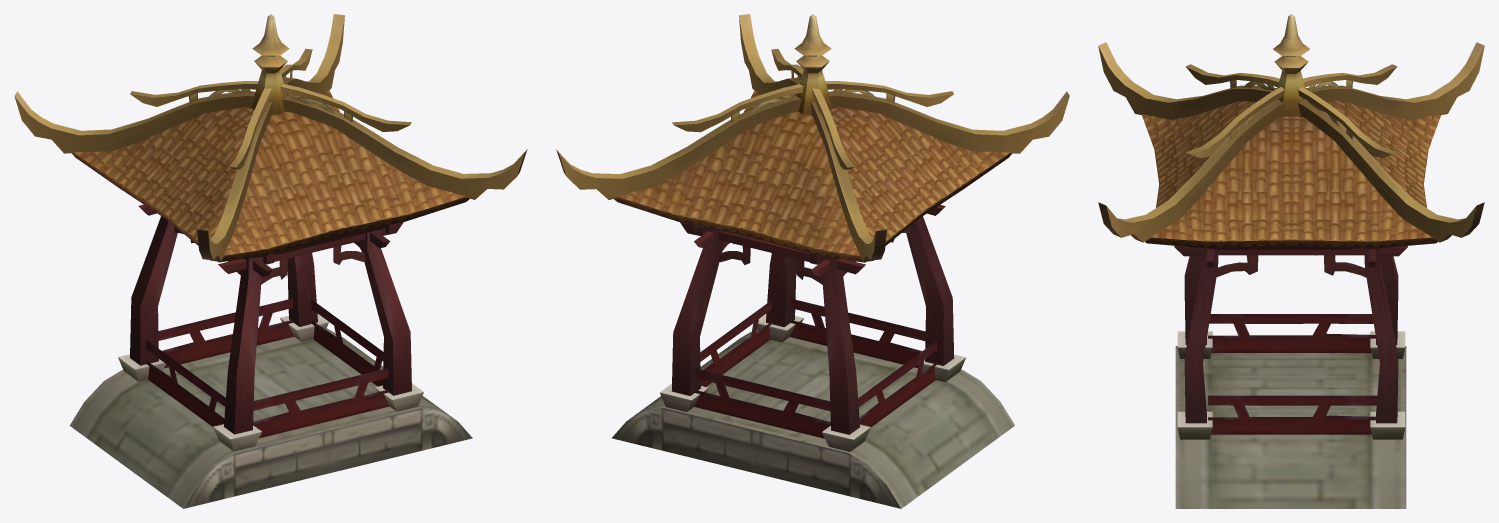
Rendered from bx_building_001.fbx.
3 renders of one model, left to right at view 1: azimuth 30°, elevation 25°; view 2: azimuth 150°, elevation 25°; view 3: azimuth 270°, elevation 25°, orthographic.
Parts seen in each view (by area): view 1: bx_building_001; view 2: bx_building_001; view 3: bx_building_001.
Part boxes in pixels (x1,y1,x2,y2): bx_building_001: (14,14,527,508); bx_building_001: (556,14,1069,508); bx_building_001: (1098,14,1484,508).
Bounding box in the file's own units: 564 × 681 × 564.
